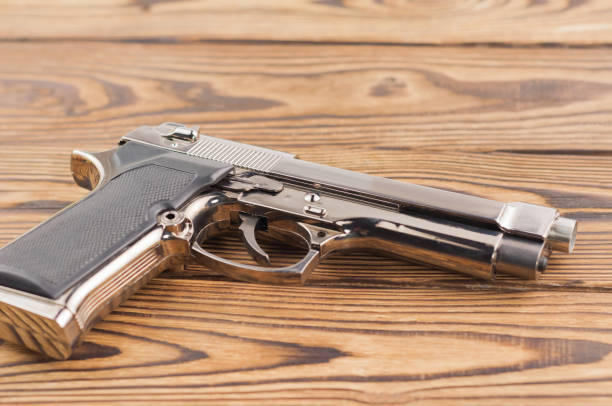gun: (0, 124, 577, 347)
